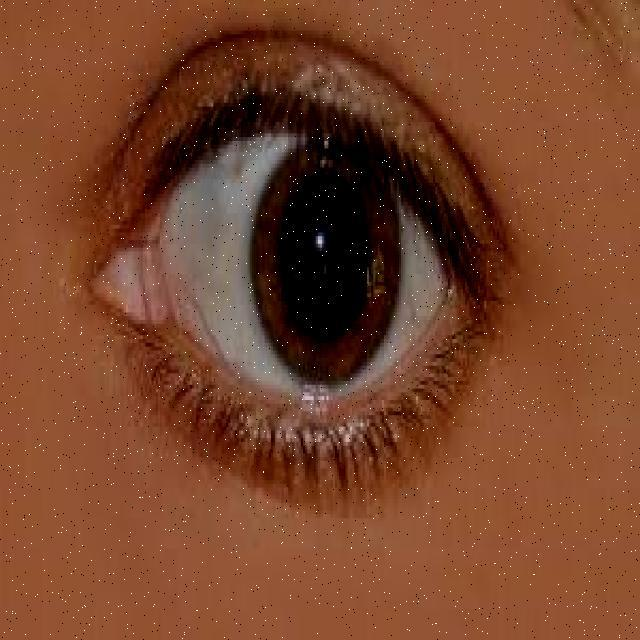Normal: (62, 23, 520, 518)
